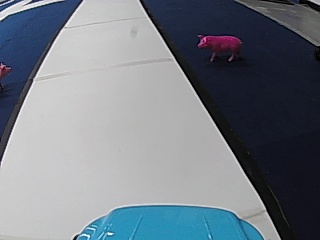pig: (194, 31, 243, 62)
